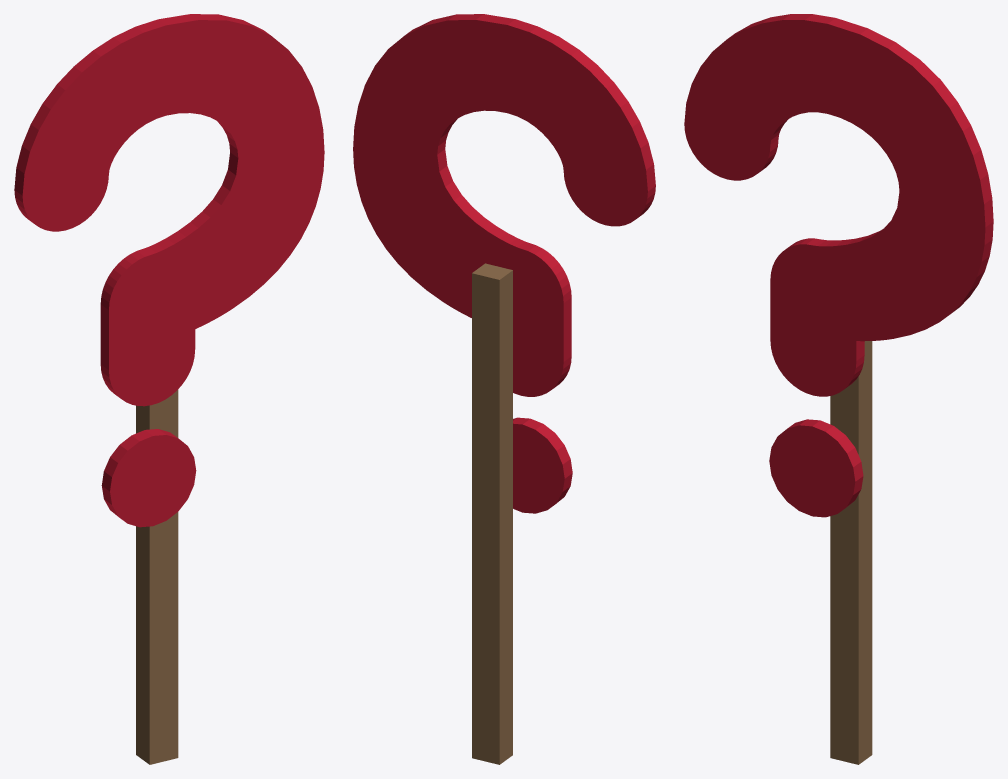
The model's file is question.glb.
3 renders of one model, left to right at view 1: azimuth 30°, elevation 25°; view 2: azimuth 150°, elevation 25°; view 3: azimuth 330°, elevation 25°, orthographic. The views are drawn at different scales.
Bounding box in the file's own units: 0.6363 × 1.5 × 0.089.
